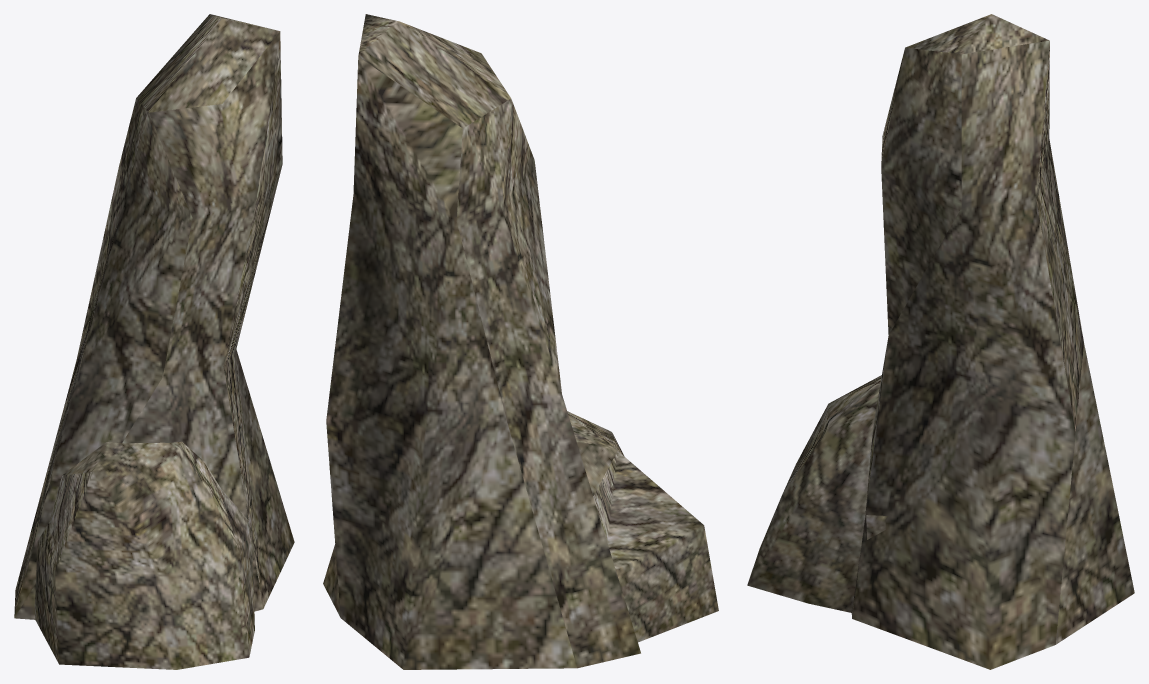
Rendered from general_obj_bigstone03.glb.
3 renders of one model, left to right at view 1: azimuth 30°, elevation 25°; view 2: azimuth 150°, elevation 25°; view 3: azimuth 270°, elevation 25°, orthographic. The views are drawn at different scales.
Parts seen in each view (by area): view 1: Sphere01; view 2: Sphere01; view 3: Sphere01.
Part boxes in pixels (bbox=[...]): Sphere01: bbox=[14, 14, 294, 669]; Sphere01: bbox=[323, 14, 718, 669]; Sphere01: bbox=[747, 14, 1134, 669].
Bounding box in the file's own units: 13.49 × 23.1 × 13.17.
Materials: 1 (1 with a texture image).
